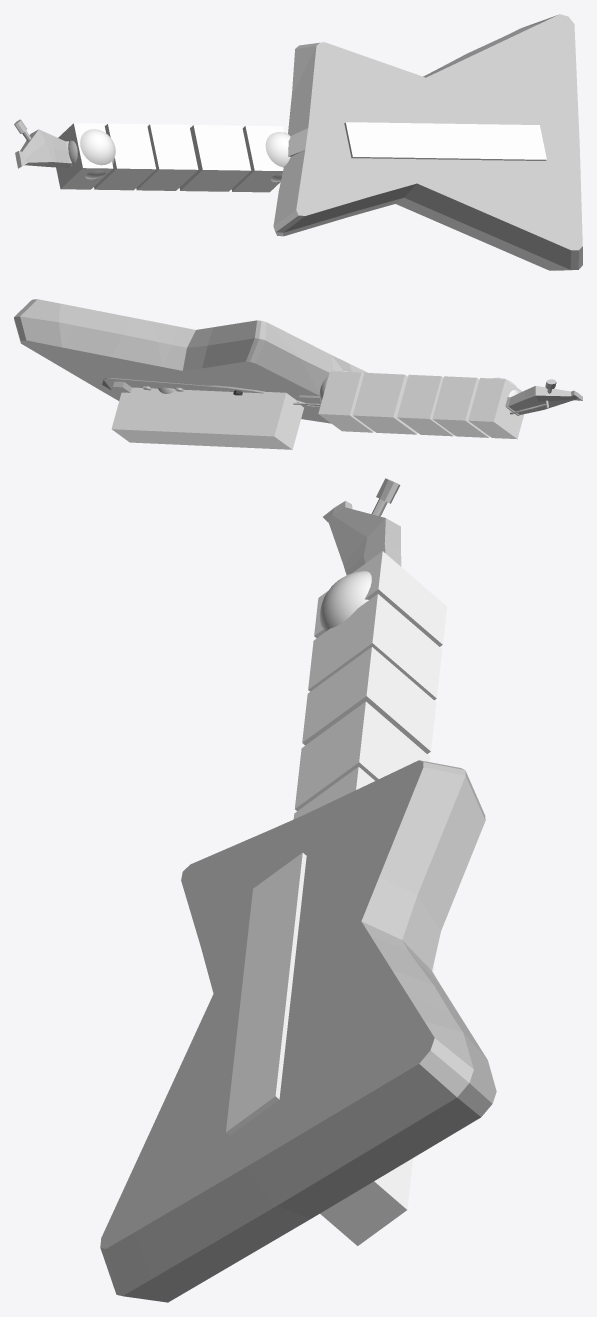
Rendered from GoldenEletricGuitarAnchor.fbx.
3 views of the same model, one above another, from view 1: azimuth 30°, elevation 25°; view 2: azimuth 150°, elevation 25°; view 3: azimuth 270°, elevation 25° (orthographic). The views are drawn at different scales.
Parts seen in each view (by area): view 1: GOLDEN_ELECTRIC_GUITAR, StrumBar, Fret4, Fret3, Fret2, Fret5, Fret1, UnstickDistance, Center; view 2: GOLDEN_ELECTRIC_GUITAR, StrumBar, Fret4, Fret1, Fret2, Fret3, Fret5; view 3: GOLDEN_ELECTRIC_GUITAR, StrumBar, Fret3, Fret2, Fret4, Fret1, UnstickDistance, Fret5.
Part boxes in pixels (left/top/right/bottom): GOLDEN_ELECTRIC_GUITAR: left=14, top=14, right=582, bottom=270; StrumBar: left=344, top=122, right=546, bottom=160; Fret4: left=179, top=125, right=251, bottom=191; Fret3: left=136, top=124, right=198, bottom=190; Fret2: left=94, top=123, right=155, bottom=190; Fret5: left=231, top=125, right=284, bottom=192; Fret1: left=56, top=123, right=113, bottom=189; UnstickDistance: left=68, top=129, right=115, bottom=179; Center: left=265, top=132, right=290, bottom=182; GOLDEN_ELECTRIC_GUITAR: left=14, top=299, right=582, bottom=423; StrumBar: left=111, top=387, right=303, bottom=449; Fret4: left=352, top=372, right=417, bottom=434; Fret1: left=468, top=378, right=524, bottom=439; Fret2: left=432, top=376, right=489, bottom=437; Fret3: left=397, top=374, right=453, bottom=436; Fret5: left=318, top=371, right=373, bottom=432; GOLDEN_ELECTRIC_GUITAR: left=100, top=478, right=496, bottom=1302; StrumBar: left=226, top=852, right=434, bottom=1245; Fret3: left=302, top=647, right=436, bottom=753; Fret2: left=308, top=594, right=442, bottom=700; Fret4: left=295, top=701, right=430, bottom=811; Fret1: left=314, top=551, right=446, bottom=646; UnstickDistance: left=319, top=571, right=371, bottom=631; Fret5: left=293, top=766, right=374, bottom=819.
Bounding box in the file's own units: 66.5 × 23.68 × 21.27.
